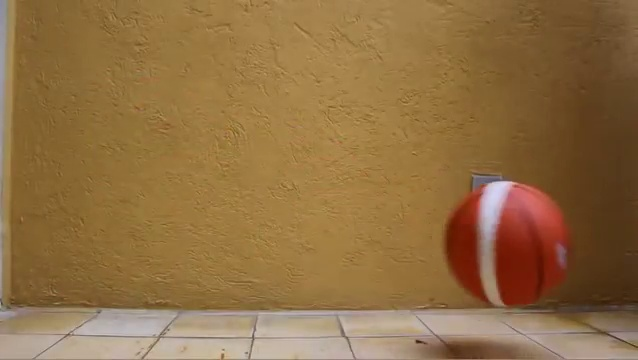ball: (443, 179, 573, 310)
